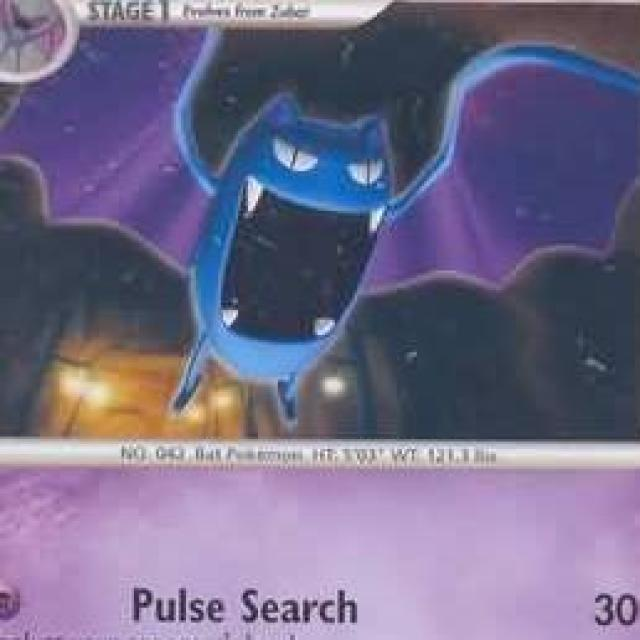Golbat: (38, 30, 640, 436)
